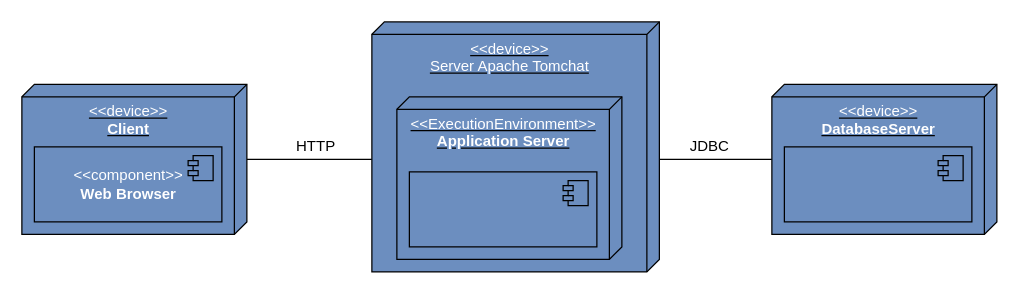
Image size: 1019x294. Some labels were removed from this diagram. Here are the shapes that lost their labels. From the top down, the centre of each, then its label:
point (877, 184): <<component>> AM-GPDatabase
point (502, 209): <<component>> Business-Logic
